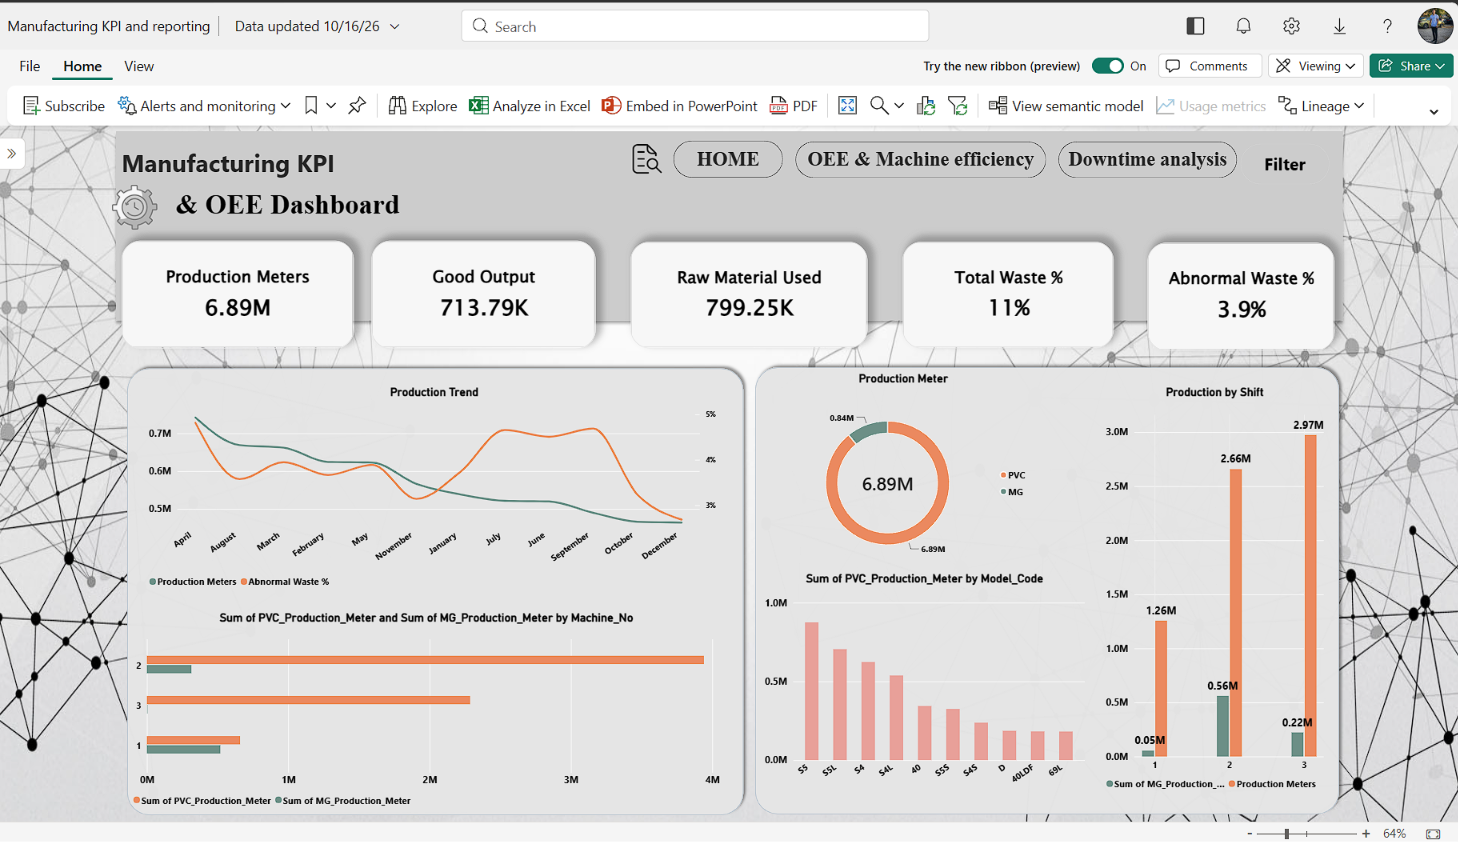

This screenshot's page, from the dashboard's own definition file:
{"tool":"powerbi","page":{"name":"overview","canvas":[1920,1080],"ordinal":1},"visuals":[{"type":"shape","box":[0,0,1921.2,310.9],"z":0},{"type":"textbox","box":[17.5,32.6,412.9,53.4],"z":1000},{"type":"textbox","box":[100.2,97.7,349.8,55.9],"z":2000},{"type":"cardVisual","fields":{"Data":["Measure.Production Meters"]},"box":[17.5,177.8,360.6,167.8],"z":3000},{"type":"cardVisual","fields":{"Data":["Measure.Good Output"]},"box":[405.7,177.8,348.1,167.8],"z":4000},{"type":"cardVisual","fields":{"Data":["Measure.Raw Material Used"]},"box":[806.4,180.3,368.1,165.3],"z":5000},{"type":"cardVisual","fields":{"Data":["Measure.Total Waste %"]},"box":[1229.7,180.3,328.1,165.3],"z":6000},{"type":"cardVisual","fields":{"Data":["OverView.Abnormal Waste %"]},"box":[1609.1,181.2,290.5,167.8],"z":7000},{"type":"shape","box":[17.5,368.1,974.2,711.2],"z":8000},{"type":"lineChart","title":"Production Trend","fields":{"Category":["DimDate.MonthName"],"Y":["Measure.Production Meters"],"Y2":["OverView.Abnormal Waste %"]},"box":[43.3,388.3,918.3,350],"z":9000},{"type":"clusteredBarChart","fields":{"Category":["DimMachine.Machine_No","DimMachine.Machine_Type"],"Y":["Sum(FactProduction.PVC_Production_Meter)","Sum(FactProduction.MG_Production_Meter)"]},"box":[18.3,738.3,943.3,338.3],"z":10000},{"type":"shape","box":[991.7,365.6,924.1,711.2],"z":11000},{"type":"donutChart","title":"Production Meter ","fields":{"Category":["DimMachine.Machine_Type"],"Y":["Sum(FactProduction.PVC_Production_Meter)","Sum(FactProduction.MG_Production_Meter)"]},"box":[1016.8,368.1,428.2,338.1],"z":12000},{"type":"clusteredColumnChart","title":"Production by Shift","fields":{"Category":["DimShift.Shift_No"],"Y":["Sum(FactProduction.MG_Production_Meter)","Measure.Production Meters"]},"box":[1527.7,388.2,370.6,663.7],"z":13000},{"type":"clusteredColumnChart","fields":{"Category":["DimModel.Model_Code"],"Y":["Sum(FactProduction.PVC_Production_Meter)"]},"box":[999.2,678.7,528.4,373.2],"z":14000},{"type":"image","box":[0,78.5,75,95],"z":15000},{"type":"actionButton","title":"Home","box":[873.8,23.7,170,57.5],"z":16000},{"type":"actionButton","title":"OEE","box":[1062.8,24.3,389.1,56.4],"z":17000},{"type":"actionButton","title":"Downtime","box":[1470.8,24.3,277.3,56.4],"z":18000},{"type":"image","box":[806.2,24.6,52.5,53.3],"z":21000},{"type":"actionButton","title":"Button 3","box":[1753.8,27.7,138.3,63.3],"z":23000}]}

Visuals, with their boxes on the page's 1920x1080 design canvas (x1, y1, x2, y2). These are canvas units, not pixel positions in the 1458x842 screenshot, which may show the page scaled, cropped or inside an application window:
shape: [x1=0, y1=0, x2=1921, y2=311]
textbox: [x1=18, y1=33, x2=430, y2=86]
textbox: [x1=100, y1=98, x2=450, y2=154]
cardVisual - Measure.Production Meters: [x1=18, y1=178, x2=378, y2=346]
cardVisual - Measure.Good Output: [x1=406, y1=178, x2=754, y2=346]
cardVisual - Measure.Raw Material Used: [x1=806, y1=180, x2=1174, y2=346]
cardVisual - Measure.Total Waste %: [x1=1230, y1=180, x2=1558, y2=346]
cardVisual - OverView.Abnormal Waste %: [x1=1609, y1=181, x2=1900, y2=349]
shape: [x1=18, y1=368, x2=992, y2=1079]
"Production Trend" lineChart: [x1=43, y1=388, x2=962, y2=738]
clusteredBarChart - DimMachine.Machine_No x DimMachine.Machine_Type: [x1=18, y1=738, x2=962, y2=1077]
shape: [x1=992, y1=366, x2=1916, y2=1077]
"Production Meter " donutChart: [x1=1017, y1=368, x2=1445, y2=706]
"Production by Shift" clusteredColumnChart: [x1=1528, y1=388, x2=1898, y2=1052]
clusteredColumnChart - DimModel.Model_Code x Sum(FactProduction.PVC_Production_Meter): [x1=999, y1=679, x2=1528, y2=1052]
image: [x1=0, y1=78, x2=75, y2=174]
"Home" actionButton: [x1=874, y1=24, x2=1044, y2=81]
"OEE" actionButton: [x1=1063, y1=24, x2=1452, y2=81]
"Downtime" actionButton: [x1=1471, y1=24, x2=1748, y2=81]
image: [x1=806, y1=25, x2=859, y2=78]
"Button 3" actionButton: [x1=1754, y1=28, x2=1892, y2=91]
